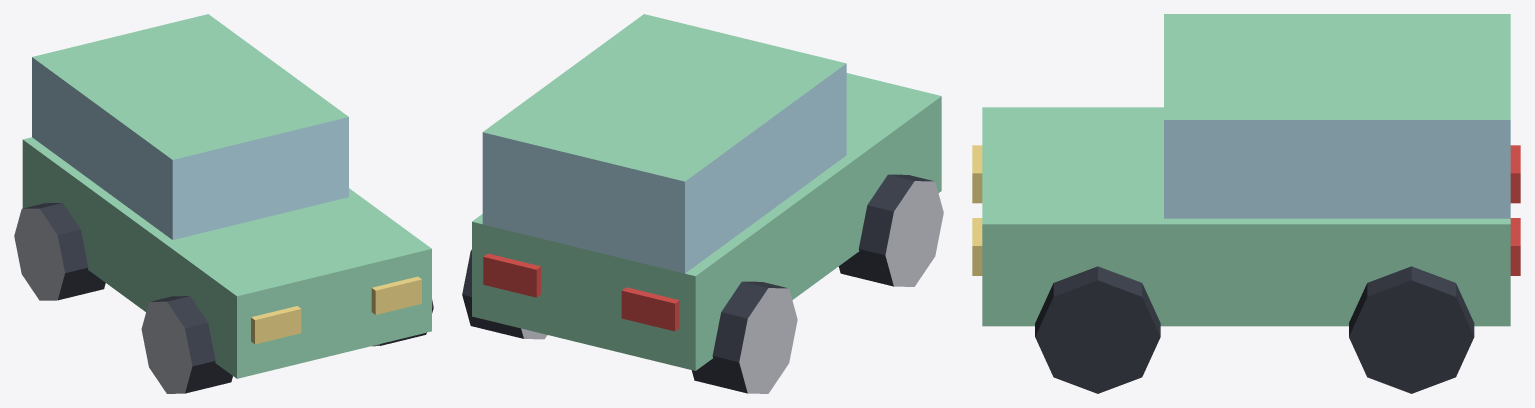
File: vehicle_hatchback.glb
3 renders of one model, left to right at view 1: azimuth 30°, elevation 25°; view 2: azimuth 150°, elevation 25°; view 3: azimuth 270°, elevation 25°, orthographic. The views are drawn at different scales.
Visible parts, largest first — view 1: vehicle_hatchback; view 2: vehicle_hatchback; view 3: vehicle_hatchback.
Part boxes in pixels (x1=…): vehicle_hatchback: x1=14, y1=14, x2=433, y2=393; vehicle_hatchback: x1=462, y1=14, x2=943, y2=393; vehicle_hatchback: x1=972, y1=14, x2=1520, y2=393.
Bounding box in the file's own units: 0.104 × 0.085 × 0.166.
